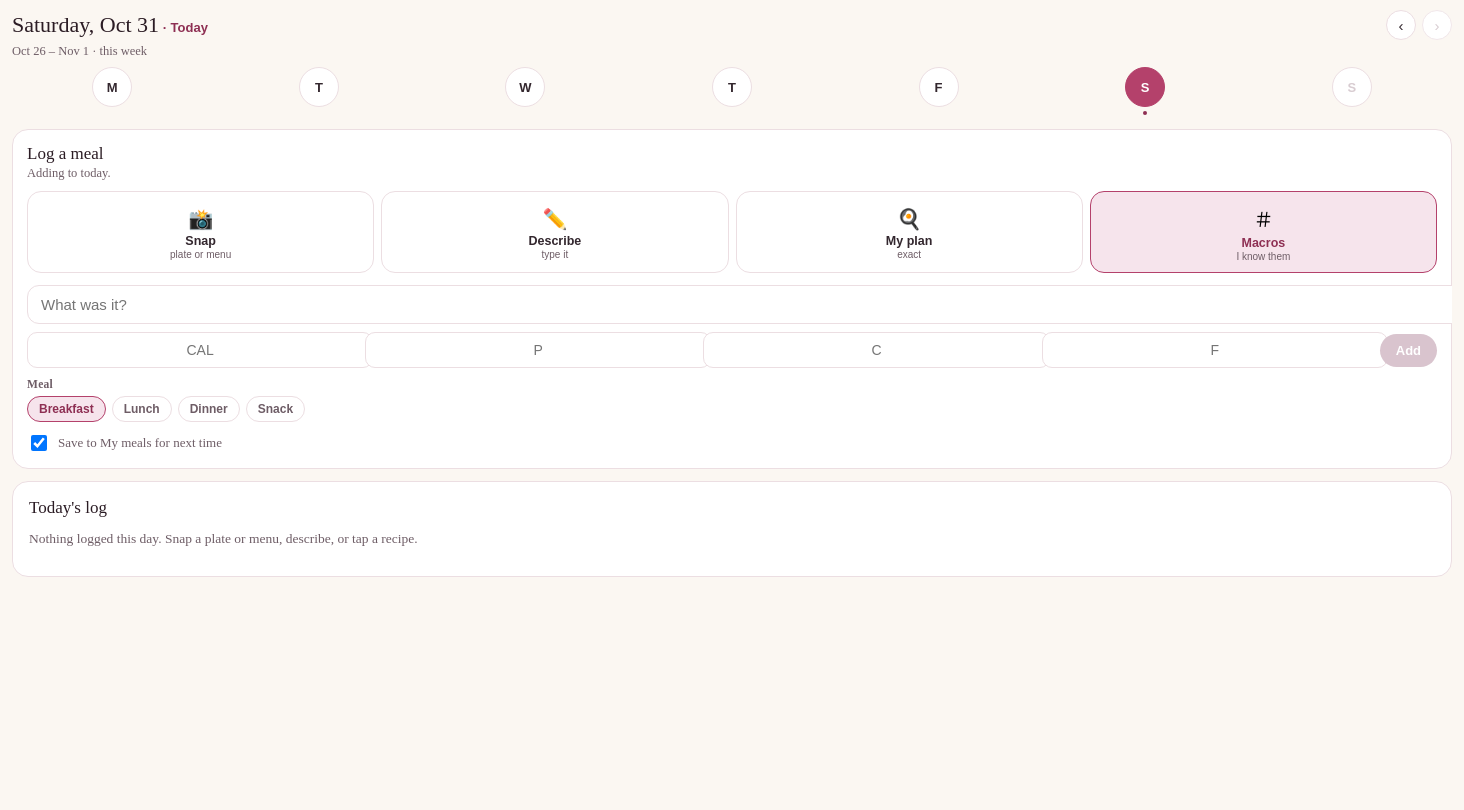
MealLogCard I know the Macros › rounds label decimals before the meal_logs write (1.2 / 27.7 / 4.2)
Step 1. Type "Rosemary crackers" into the field with placeholder "What was it?" → coordinates (740, 304), box [27,285,1452,324]
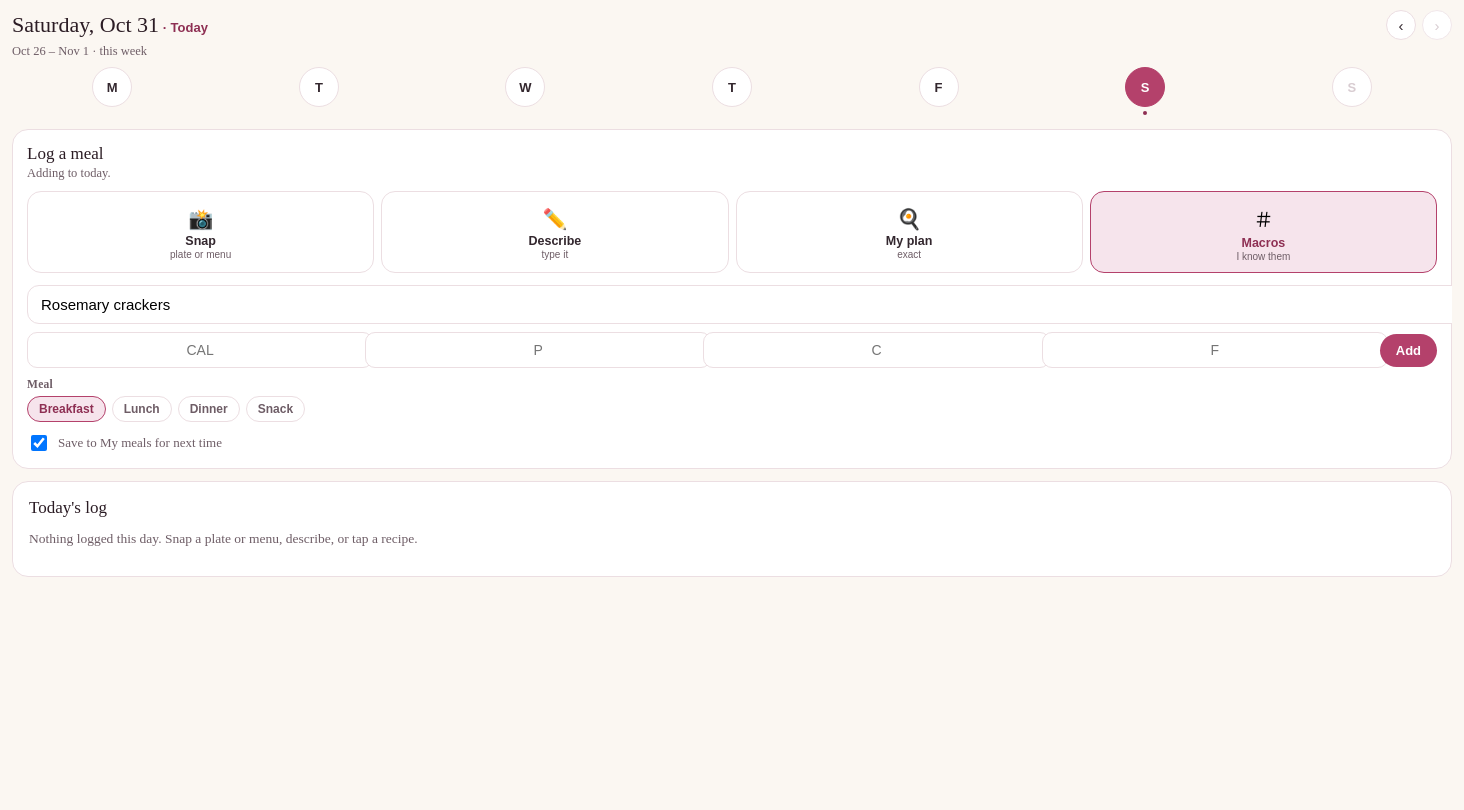
Step 2. Type "156" into the field with placeholder "CAL" → coordinates (200, 350), box [27,332,373,368]
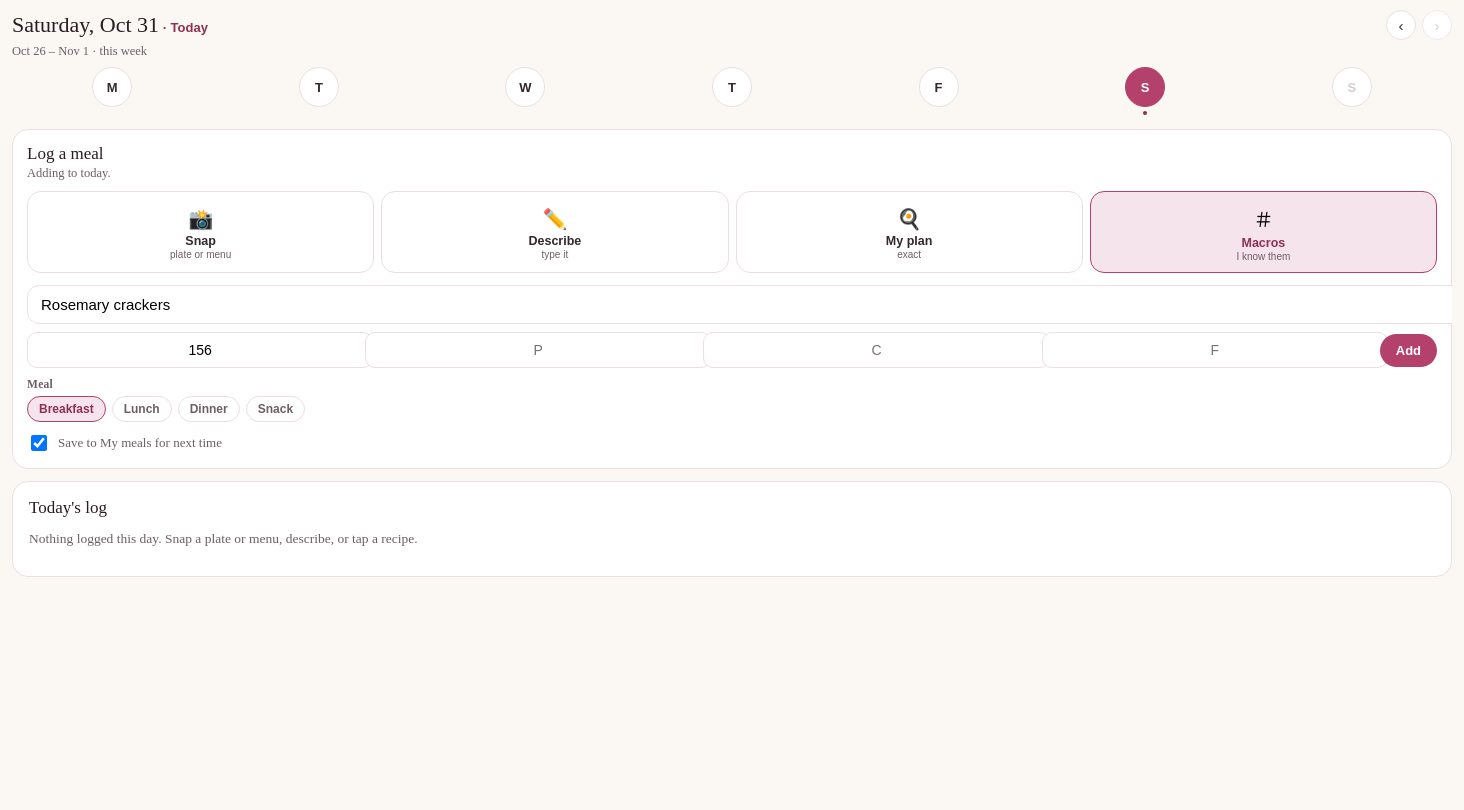
Step 3. Type "1.2" into the field with placeholder "P" → coordinates (538, 350), box [365,332,711,368]
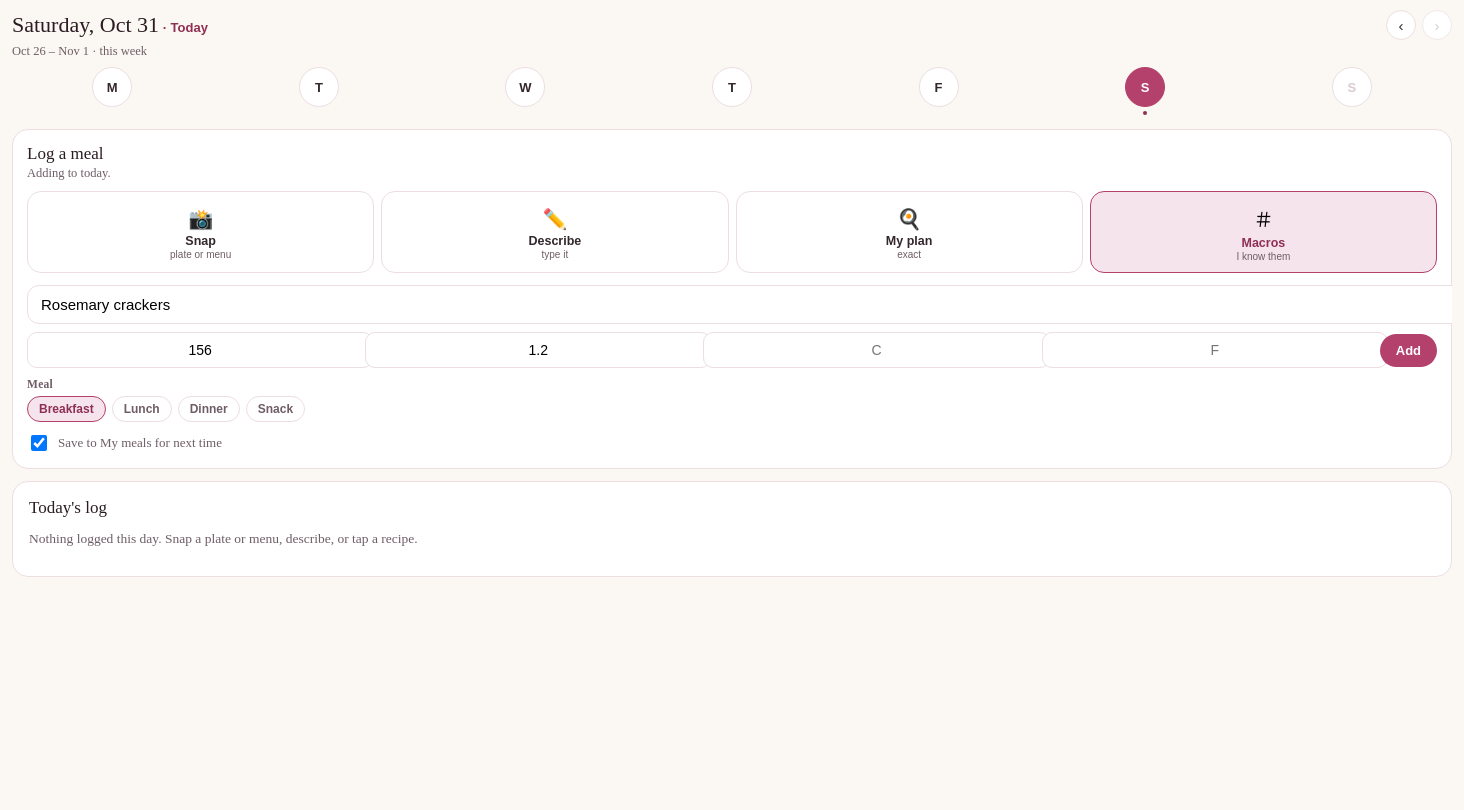
Step 4. Type "27.7" into the field with placeholder "C" → coordinates (876, 350), box [703,332,1050,368]
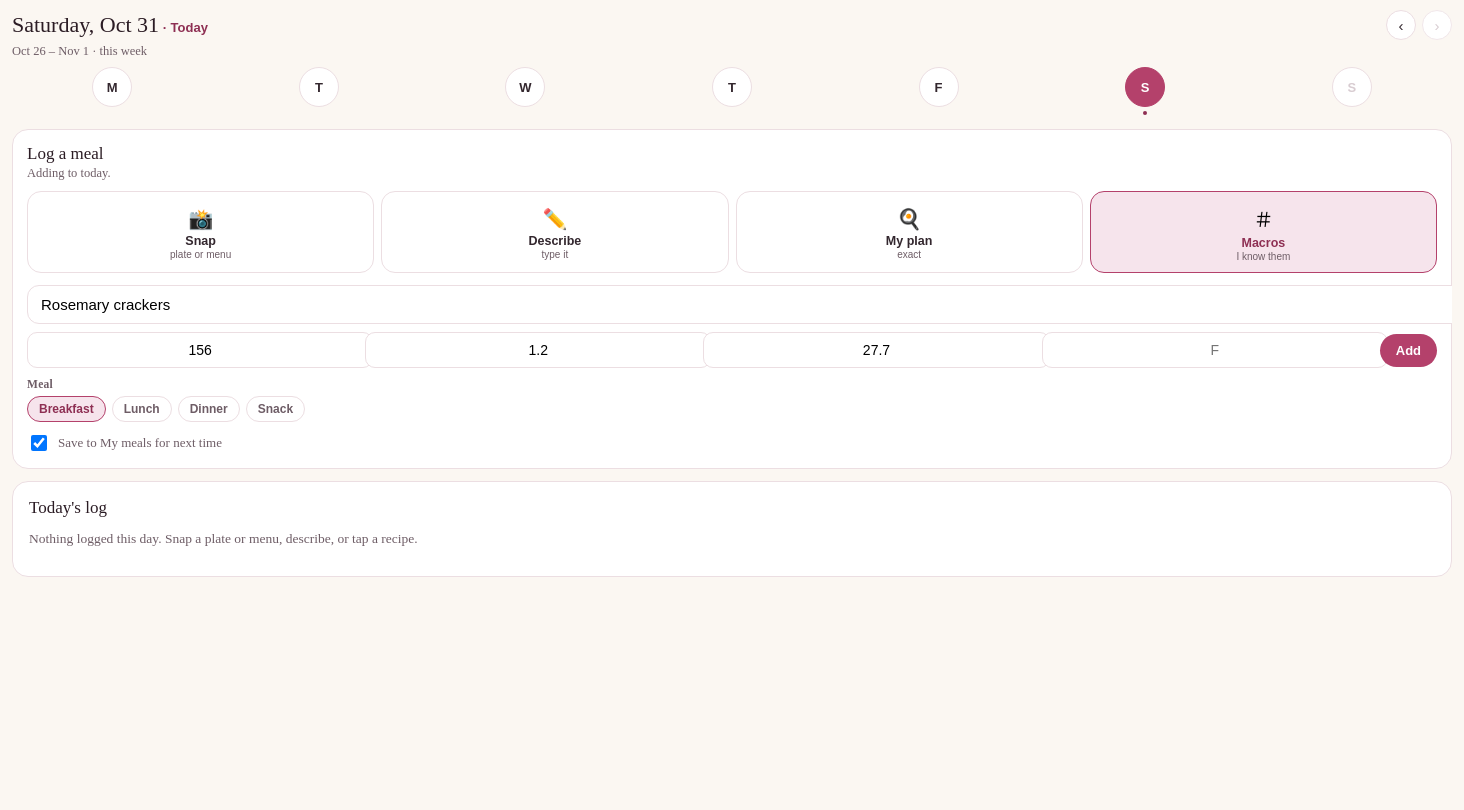
Step 5. Type "4.2" into the field with placeholder "F" → coordinates (1215, 350), box [1042,332,1388,368]
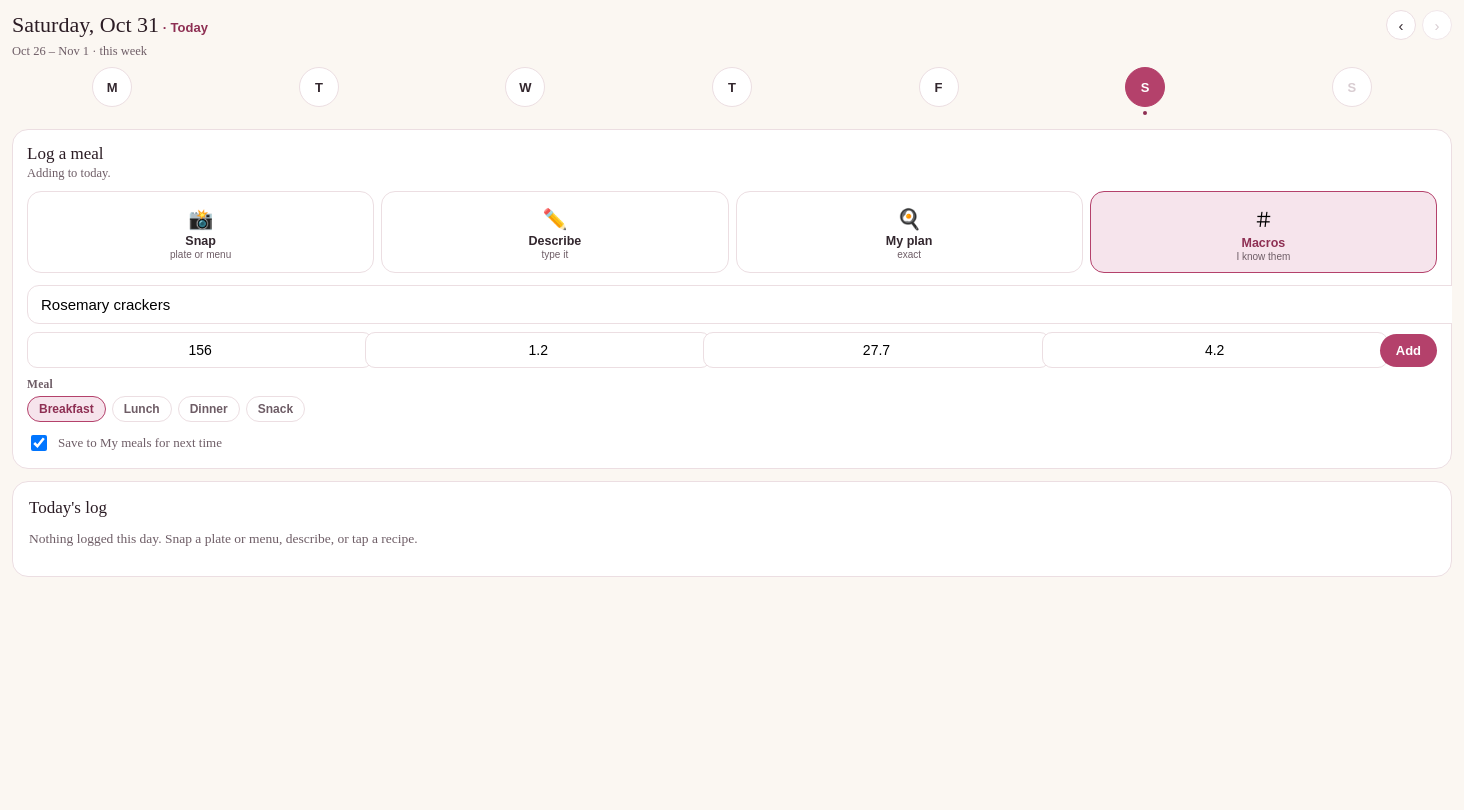
Step 6. Click the button "Add" → coordinates (1408, 350), box [1380,334,1437,366]
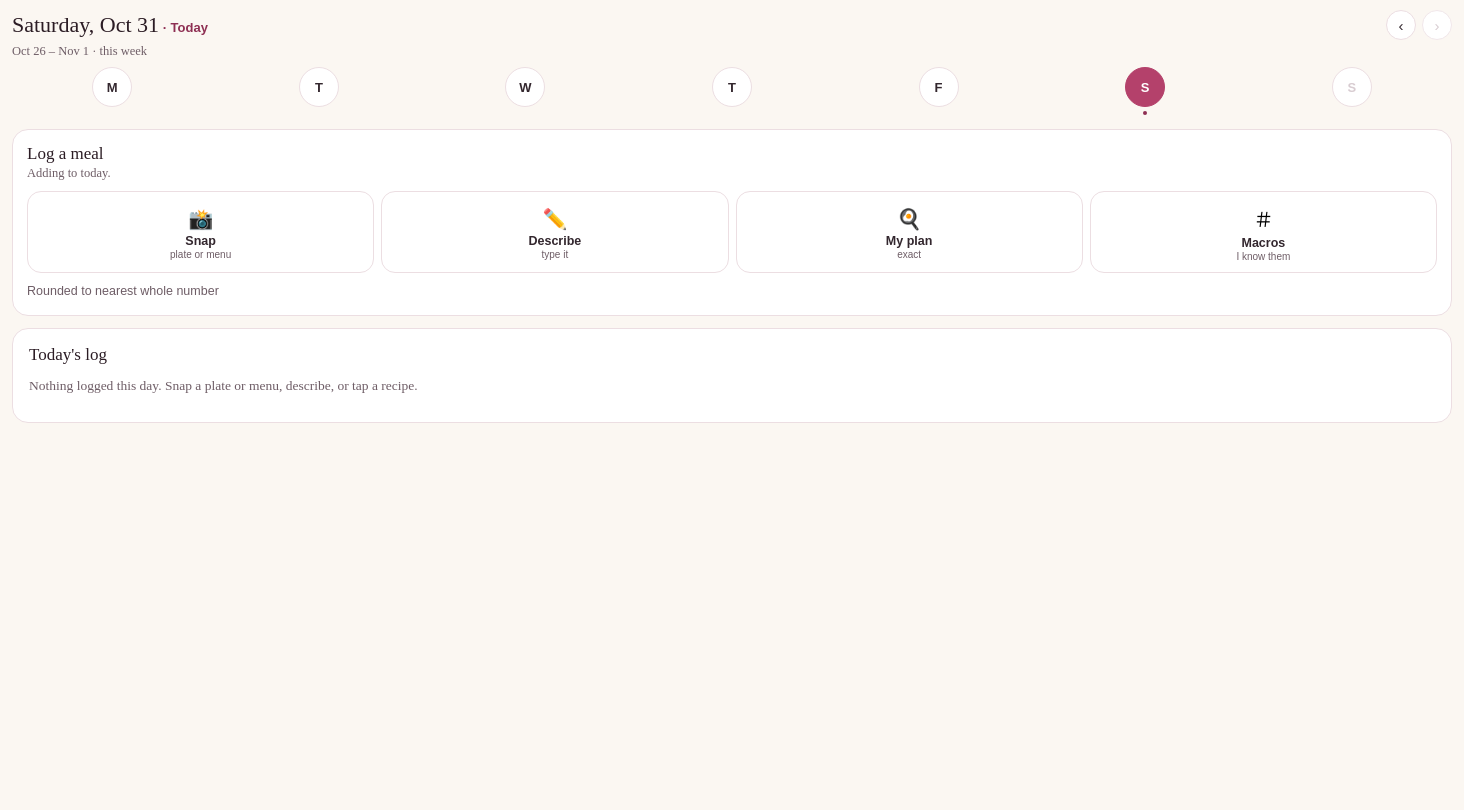
expect the text "Rounded to nearest whole number" is shown: met, box [27,284,219,298]
